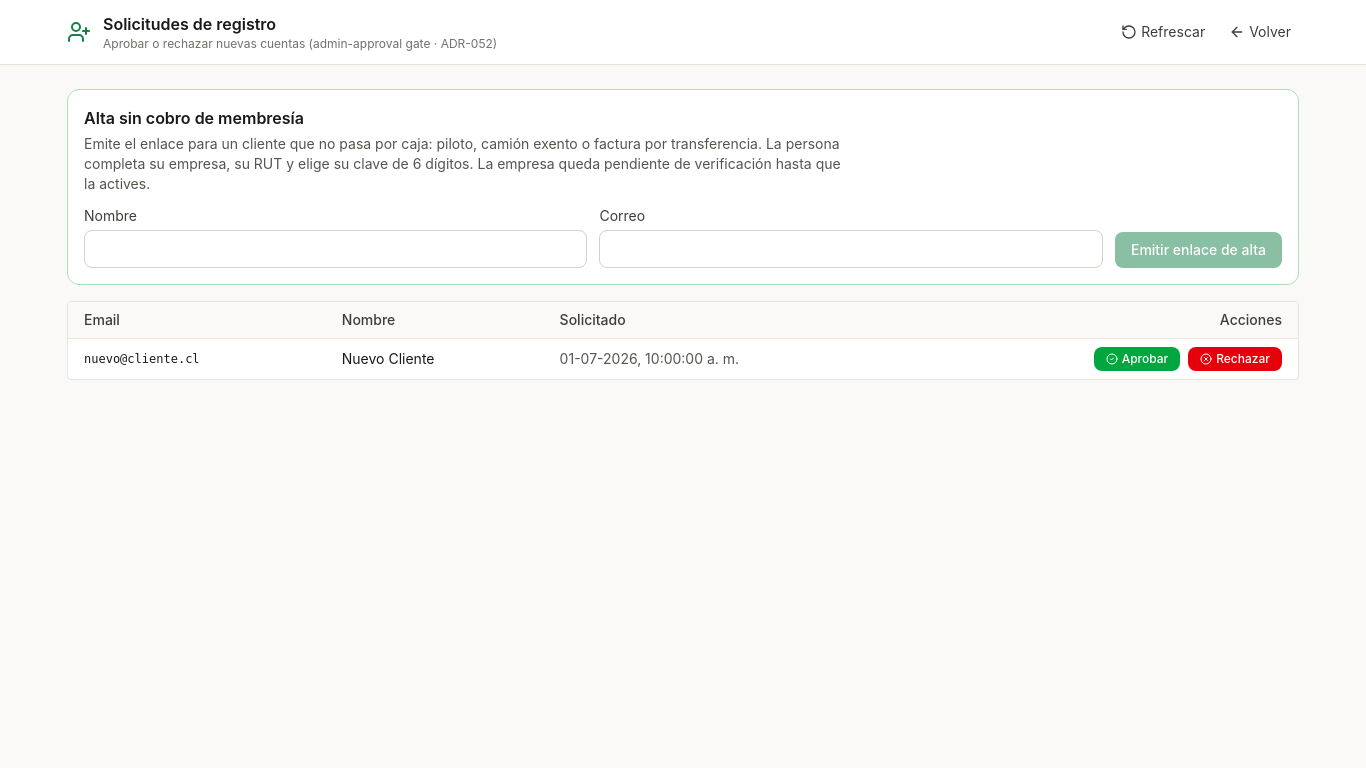
Test: PlatformAdminSignupRequestsRoute — W1.4 onboarding_link › approve con onboarding_link en la respuesta → muestra el panel copiable + aviso
Expected: the text "nuevo@cliente.cl" is shown, [68,338,326,379]
Click the button "Aprobar".
click(1137, 359)  # box [1094,347,1180,371]
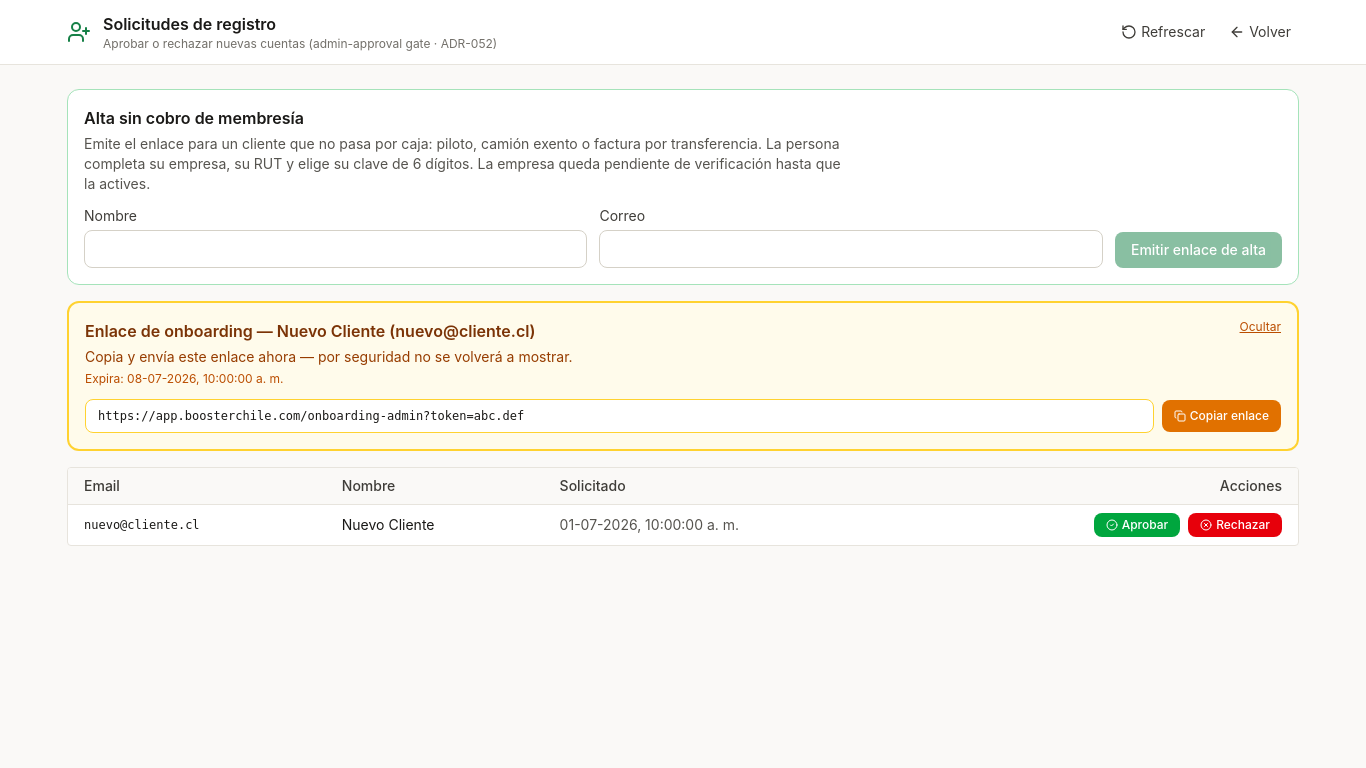
Result: the text "Copia y envía este enlace ahora — por seguridad no se volverá a mostrar" is shown at [85,348,573,365]
Result: the text "https://app.boosterchile.com/onboarding-admin?token=abc.def" is shown at [85,399,1154,433]
Result: the button "Copiar enlace" is shown at [1162,400,1281,432]
